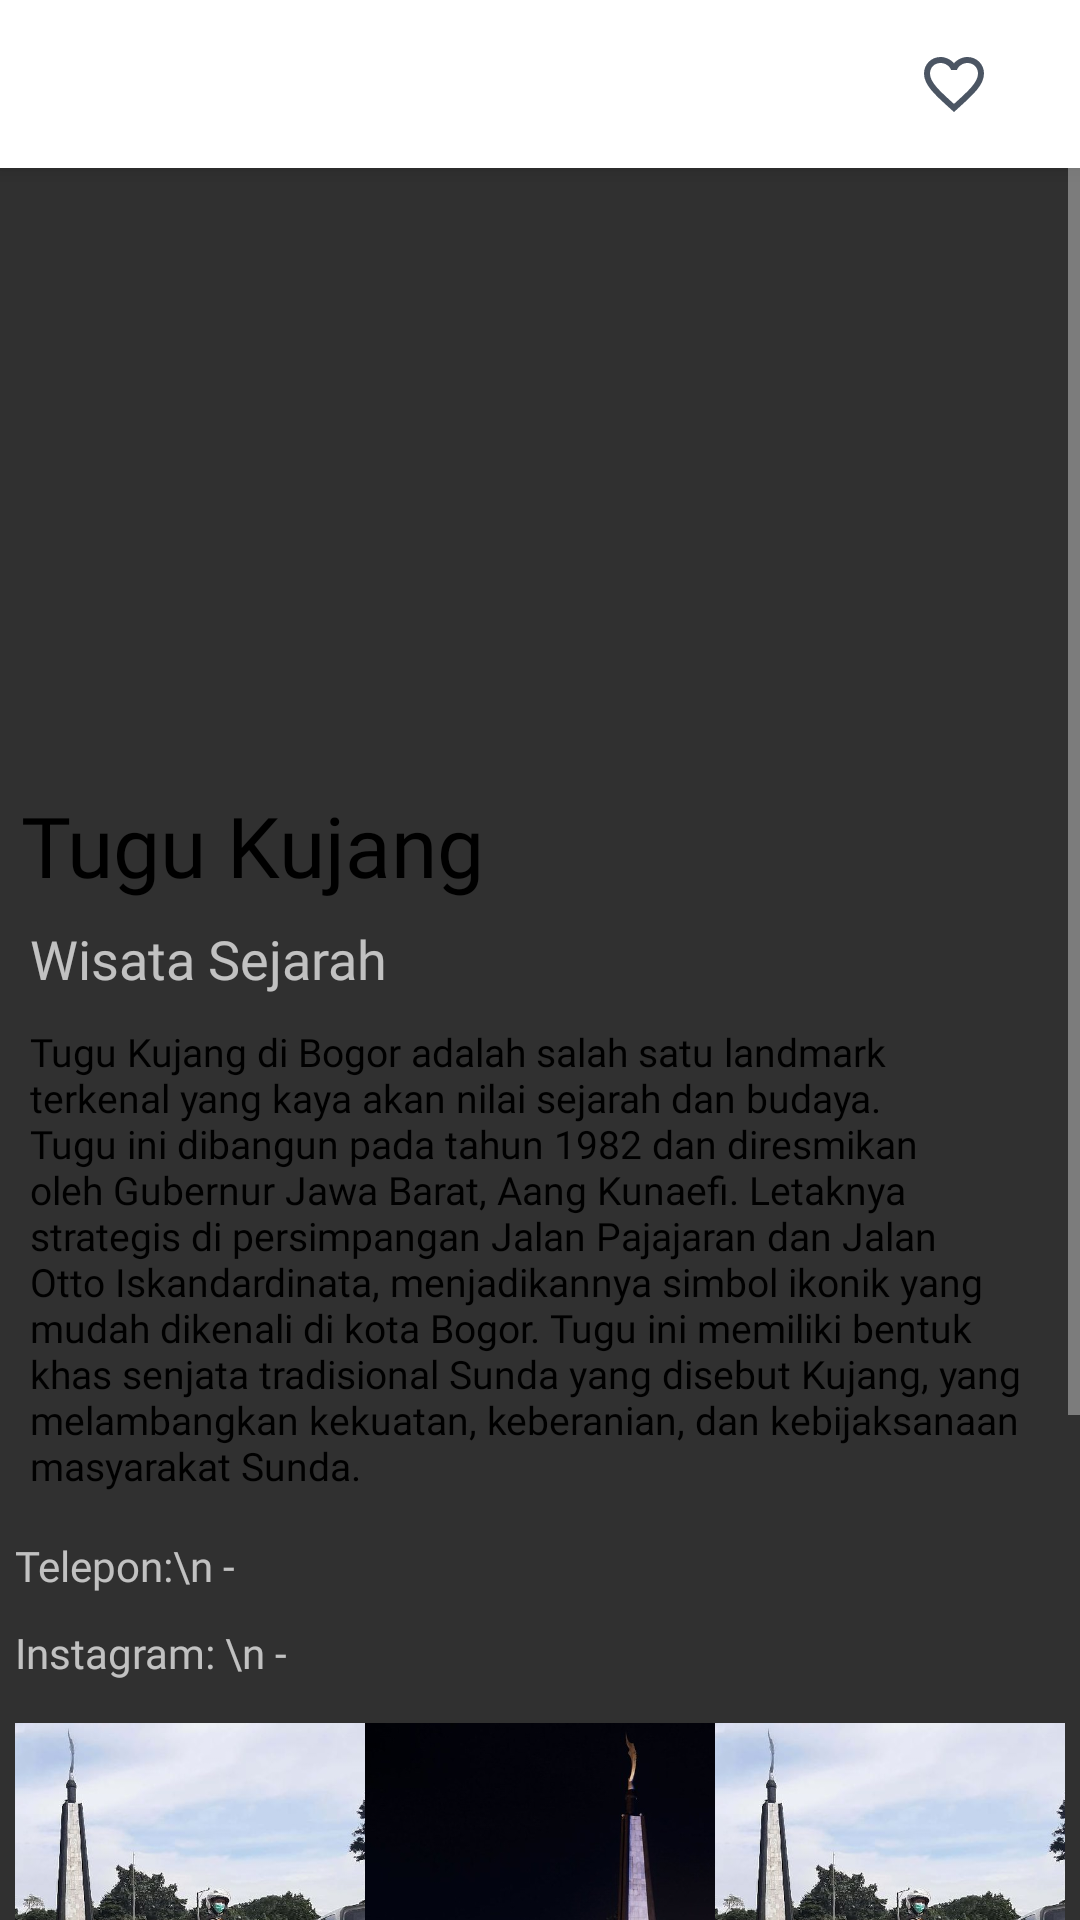

Screen size 1080 x 1920. Icon name, then its box in pixels as {"left": x1, "top": y1, "right": x2, "bottom": y2}:
heart: {"left": 924, "top": 57, "right": 984, "bottom": 112}
